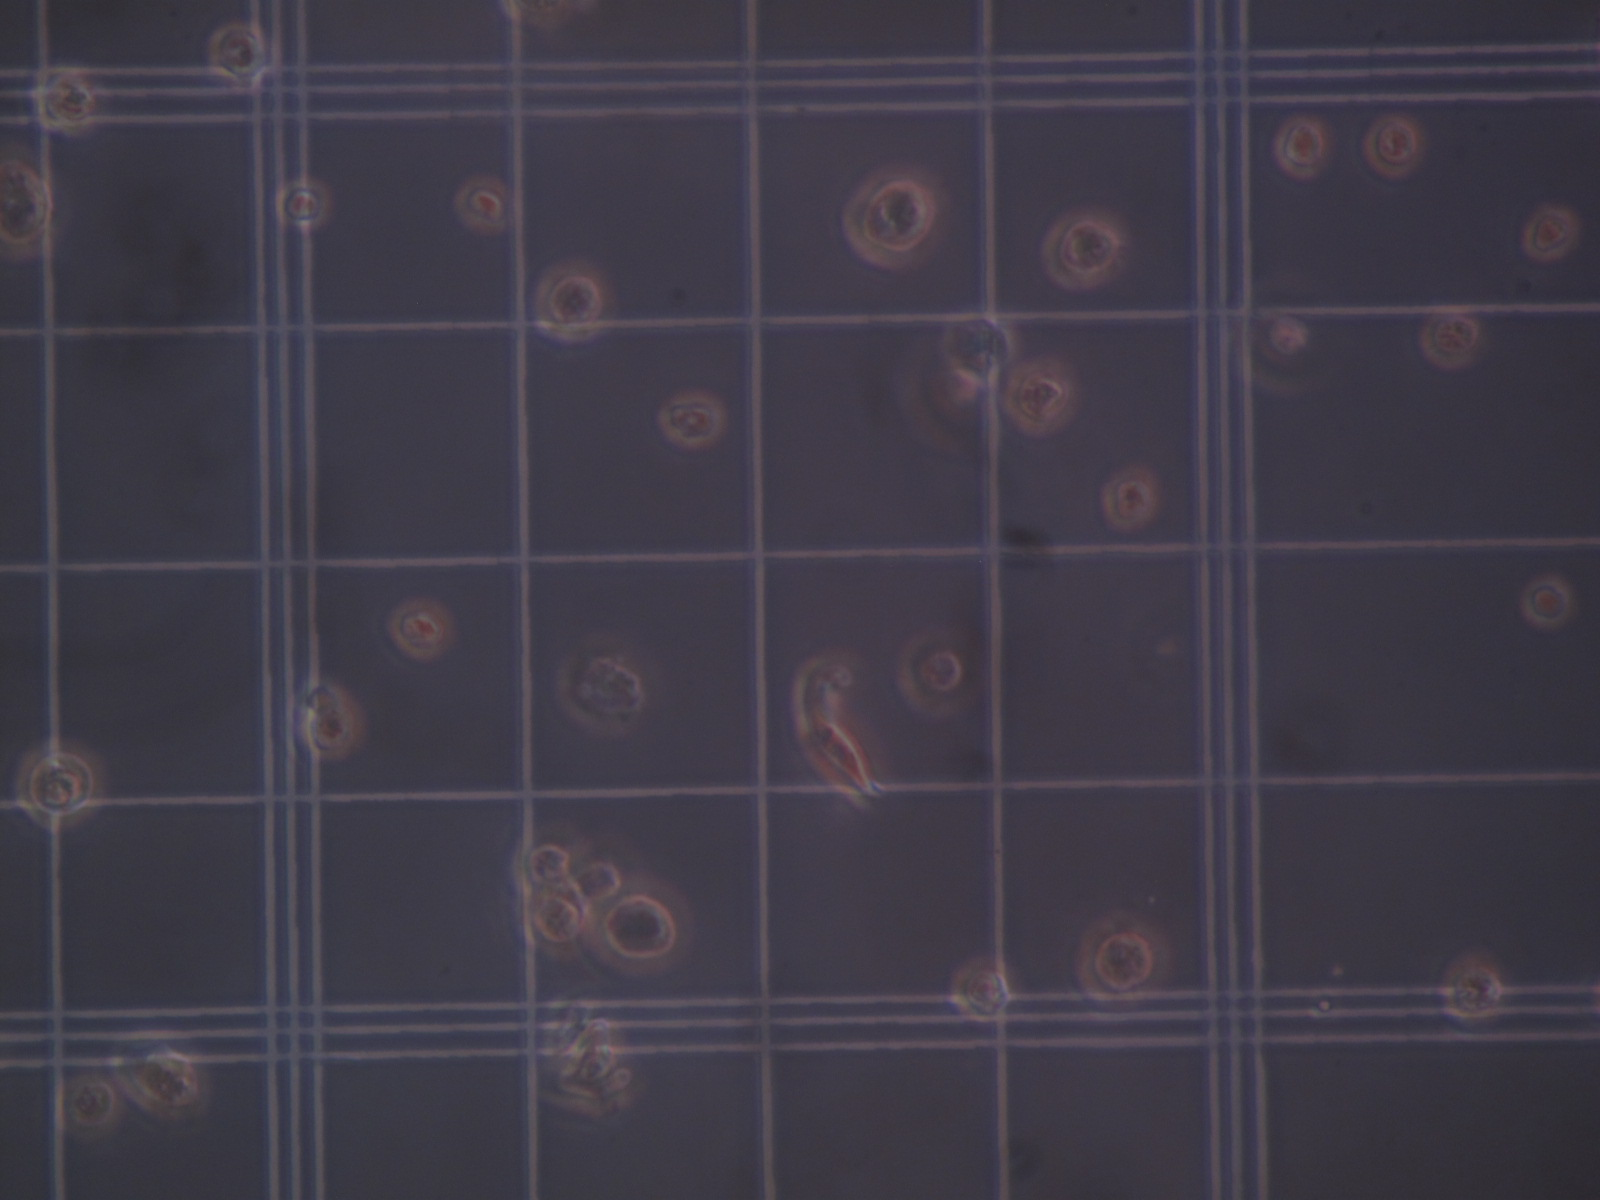hemo: (585, 877, 693, 976), (112, 1029, 214, 1128), (1076, 908, 1172, 1011), (844, 173, 939, 268), (557, 637, 646, 734), (21, 740, 107, 833), (1233, 304, 1315, 400), (1044, 212, 1128, 291), (1, 142, 57, 256), (534, 263, 611, 343), (900, 637, 975, 717), (566, 832, 640, 910), (1007, 357, 1078, 436), (509, 822, 585, 896), (52, 1073, 123, 1142), (1437, 947, 1503, 1022), (949, 955, 1015, 1026), (522, 891, 587, 961), (301, 697, 367, 761), (387, 597, 454, 661), (34, 64, 97, 131), (659, 389, 724, 450), (210, 23, 271, 86), (1364, 113, 1422, 178), (1422, 314, 1485, 372), (1102, 468, 1159, 529), (455, 176, 515, 233), (1522, 204, 1577, 263), (273, 176, 333, 228), (1275, 116, 1323, 179), (1522, 575, 1572, 632)
